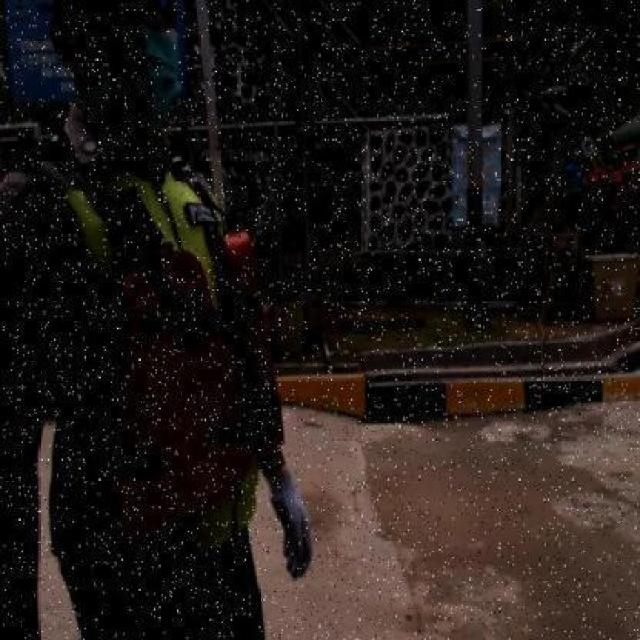Gloves: (262, 456, 320, 581)
Mask: (84, 29, 188, 131)
Protective Glasses: (79, 0, 179, 32)
Vest: (105, 224, 286, 542)
